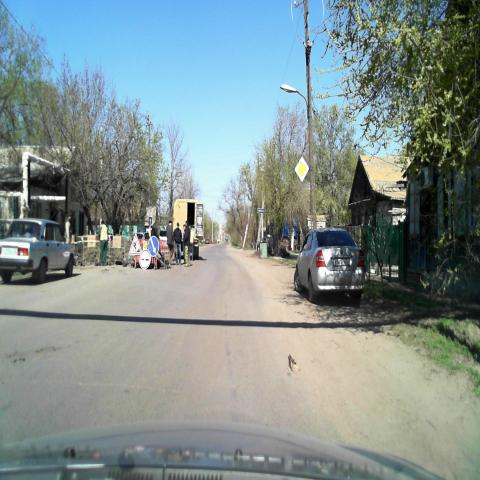3_20: (139, 250, 151, 270)
